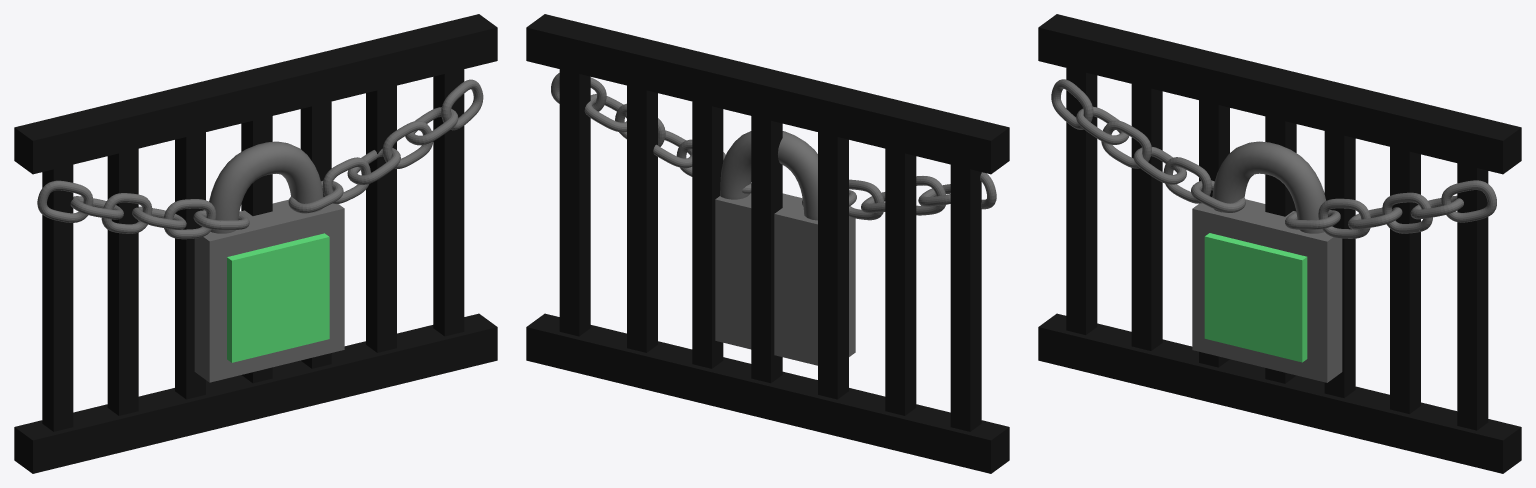
The model's file is NewCage_Square_C.fbx.
3 views of the same model, side by side, from view 1: azimuth 30°, elevation 25°; view 2: azimuth 150°, elevation 25°; view 3: azimuth 330°, elevation 25° (orthographic).
Parts seen in each view (by area): view 1: Cube.007, Cube.008, Cube.009, Cube.010, Cylinder.002, Cube.004, Cube.005, Cube.003, Cube.002, Cube.006, Cylinder, Cube.001 (+1 smaller); view 2: Cube.007, Cube.008, Cube.009, Cube.005, Cube.004, Cube.003, Cube.006, Cube.002, Cube.001, Cube, Cylinder.002, Cylinder; view 3: Cube.007, Cube.008, Cube.009, Cube.010, Cylinder.002, Cube.003, Cube.005, Cube.004, Cube.002, Cube.001, Cylinder, Cube.006 (+1 smaller).
Part boxes in pixels (x1,y1,x2,y2): Cube.007: [14, 14, 497, 174]; Cube.008: [14, 313, 497, 473]; Cube.009: [194, 199, 344, 382]; Cube.010: [227, 233, 329, 362]; Cylinder.002: [37, 79, 483, 239]; Cube.004: [42, 164, 73, 431]; Cube.005: [107, 148, 138, 415]; Cube.003: [433, 69, 464, 336]; Cube.002: [366, 85, 396, 352]; Cube.006: [175, 132, 205, 399]; Cylinder: [209, 141, 323, 233]; Cube.001: [300, 101, 331, 368]; Cube.007: [526, 14, 1009, 174]; Cube.008: [526, 313, 1009, 473]; Cube.009: [715, 193, 855, 365]; Cube.005: [885, 148, 916, 415]; Cube.004: [950, 164, 981, 431]; Cube.003: [559, 69, 590, 336]; Cube.006: [818, 132, 848, 399]; Cube.002: [627, 85, 657, 352]; Cube.001: [692, 101, 723, 368]; Cube: [751, 116, 782, 383]; Cylinder.002: [551, 73, 996, 220]; Cylinder: [720, 131, 817, 220]; Cube.007: [1038, 14, 1521, 174]; Cube.008: [1038, 313, 1521, 473]; Cube.009: [1192, 199, 1342, 382]; Cube.010: [1204, 233, 1307, 362]; Cylinder.002: [1051, 79, 1496, 238]; Cube.003: [1457, 163, 1488, 430]; Cube.005: [1131, 84, 1162, 350]; Cube.004: [1066, 68, 1097, 334]; Cube.002: [1390, 147, 1420, 413]; Cube.001: [1324, 131, 1355, 397]; Cylinder: [1212, 141, 1326, 233]; Cube.006: [1199, 100, 1229, 367].
Bounding box in the file's own units: 865 × 592 × 112.
